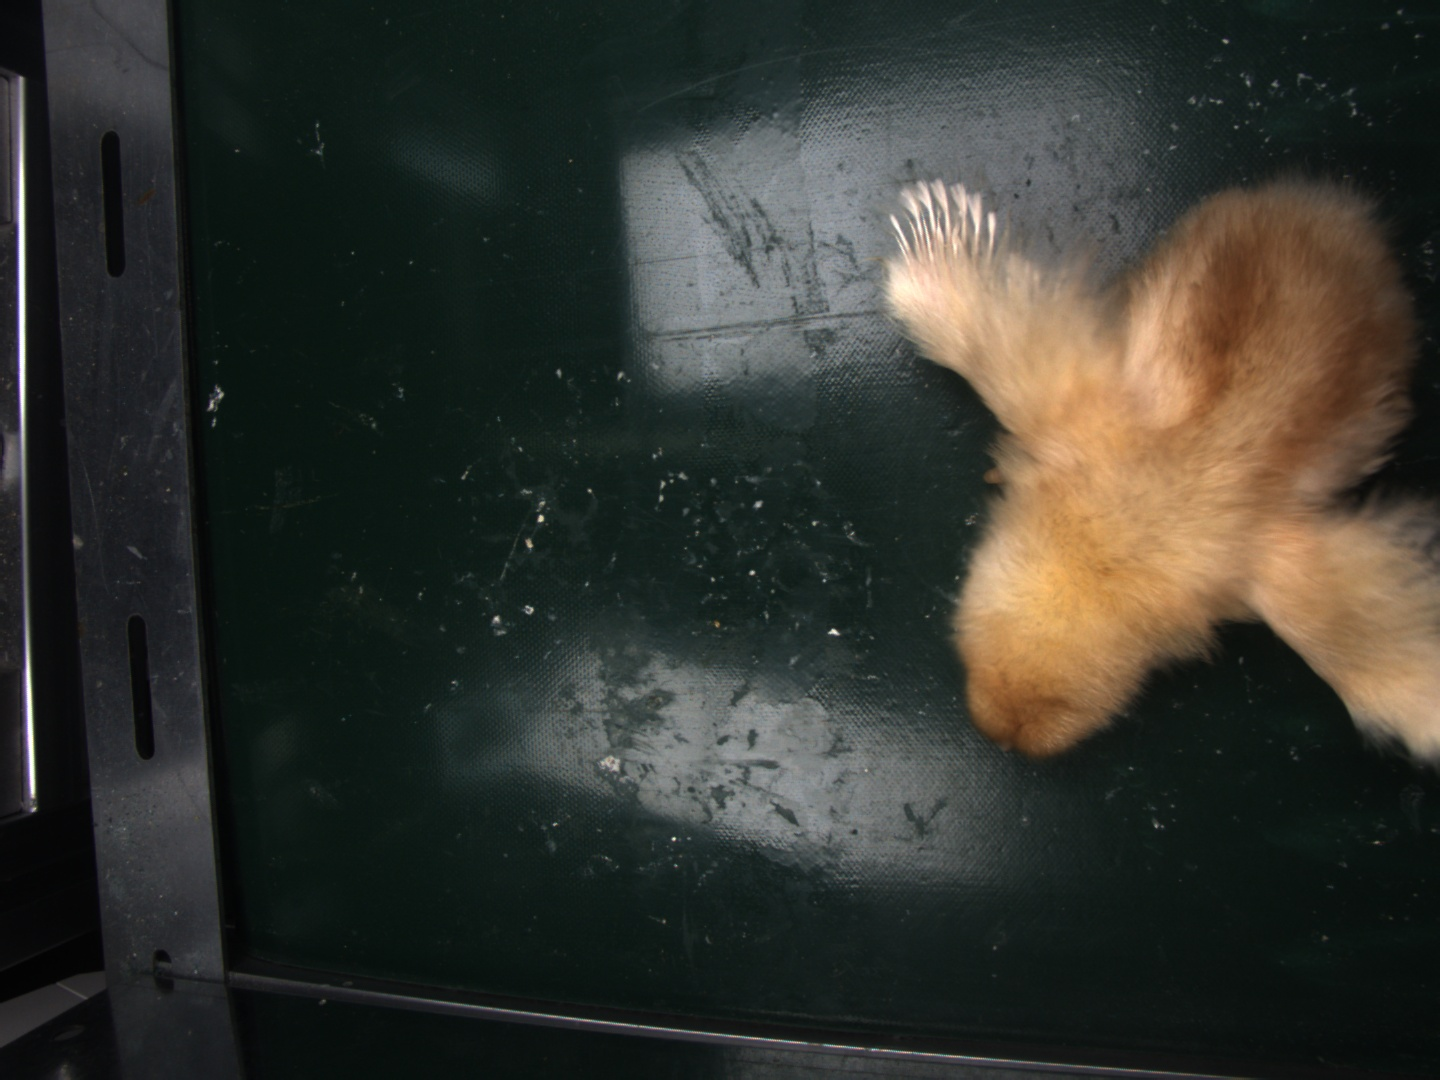female: (888, 178, 996, 259)
